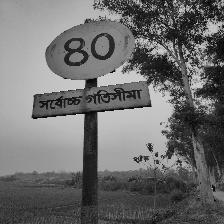Speed-limit: (33, 18, 149, 118)
